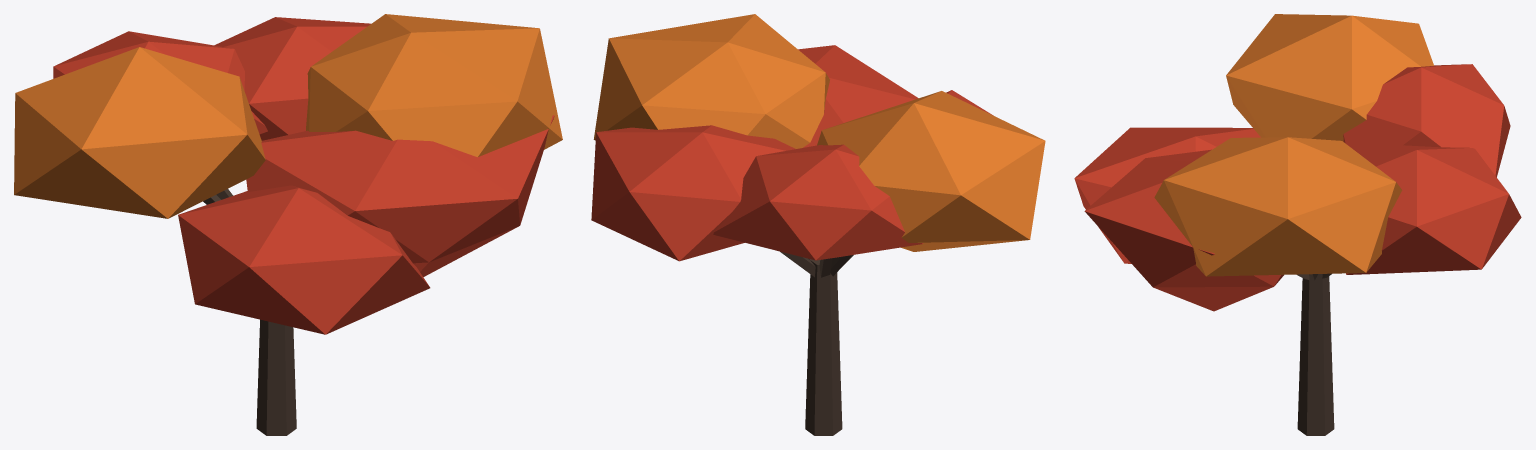
Rendered from lonn_1.glb.
The picture shows the model from 3 angles, left to right: view 1: azimuth 30°, elevation 25°; view 2: azimuth 150°, elevation 25°; view 3: azimuth 270°, elevation 25°; orthographic projection. The views are drawn at different scales.
Parts seen in each view (by area): view 1: lonn_1; view 2: lonn_1; view 3: lonn_1.
Part boxes in pixels (x1=…): lonn_1: x1=14, y1=14, x2=562, y2=435; lonn_1: x1=591, y1=14, x2=1045, y2=435; lonn_1: x1=1074, y1=14, x2=1521, y2=435.
Size of the model in its own units: 5.63 by 4.33 by 4.86.
